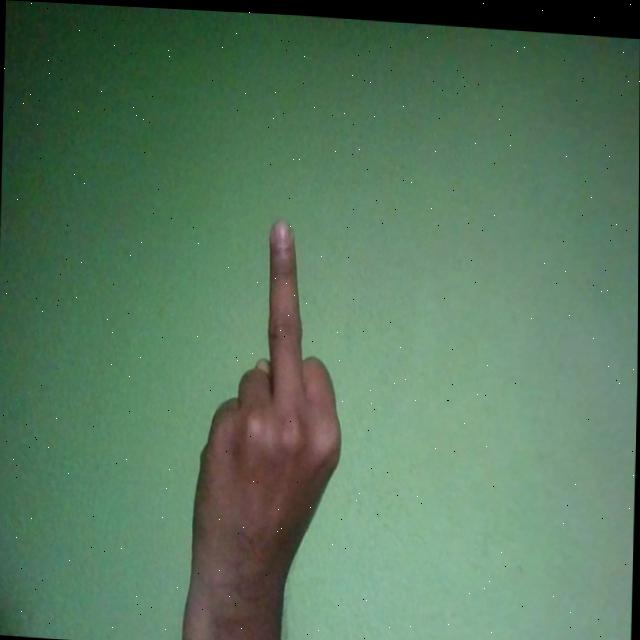Middle Finger: (189, 211, 347, 640)
